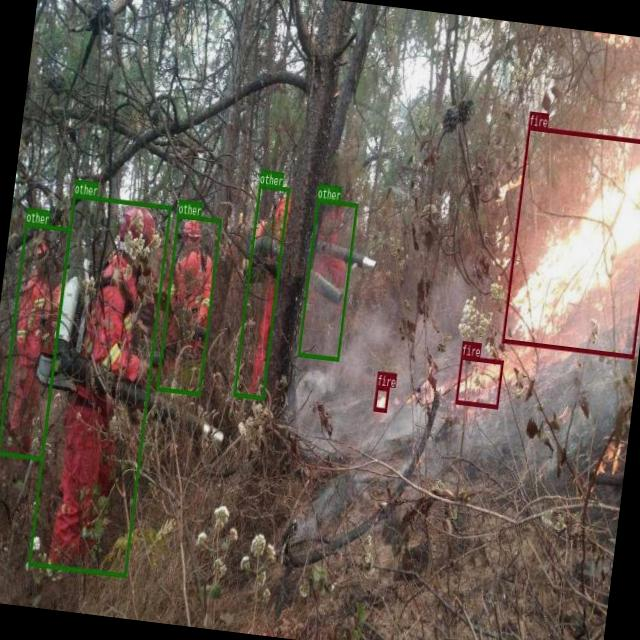fire: (501, 124, 640, 358), (454, 355, 503, 408), (373, 385, 389, 411)
